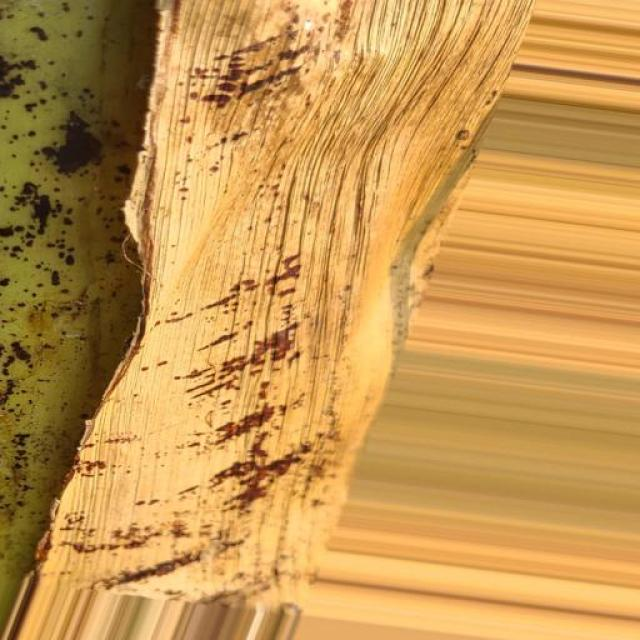Anthracnose: (0, 0, 560, 596)
